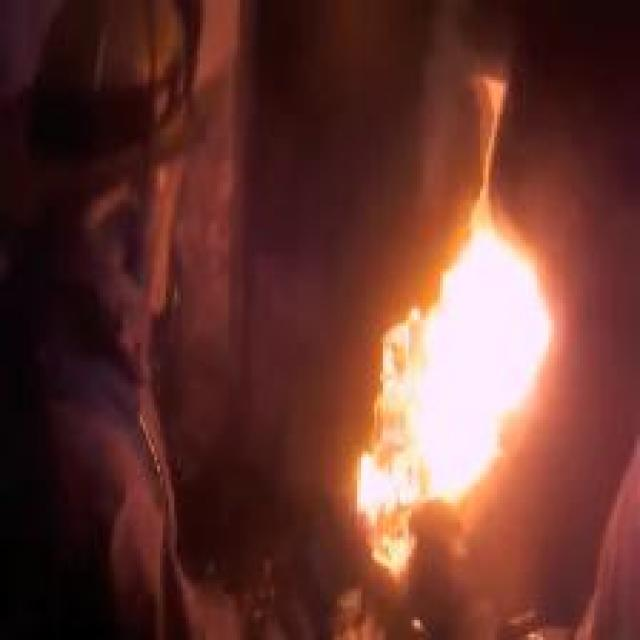Fire: (357, 80, 552, 580)
